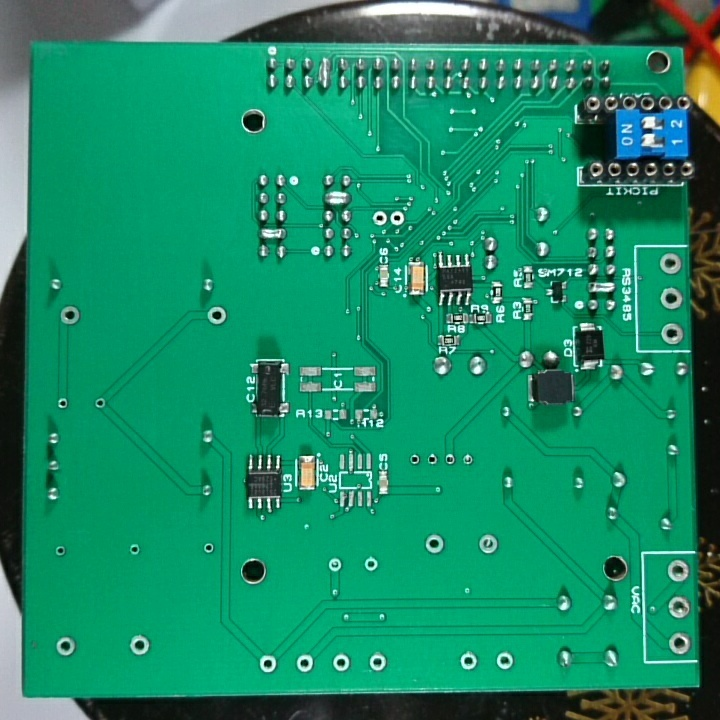F: (666, 592, 694, 621), (665, 629, 693, 657), (664, 558, 693, 584), (127, 631, 153, 659), (659, 321, 687, 347), (57, 303, 82, 330), (659, 251, 684, 278), (457, 651, 484, 675), (257, 651, 280, 678), (476, 531, 499, 558), (495, 648, 516, 677), (423, 532, 447, 557), (365, 650, 388, 676), (206, 303, 228, 327), (659, 287, 683, 309), (55, 633, 76, 657), (295, 652, 316, 675), (331, 652, 352, 673), (361, 555, 385, 572), (369, 209, 389, 229), (325, 555, 344, 575), (124, 542, 147, 558), (53, 544, 74, 560), (388, 209, 404, 228), (200, 540, 215, 558), (441, 451, 456, 468), (460, 451, 474, 469), (55, 396, 70, 412), (424, 452, 439, 468), (92, 395, 106, 412), (408, 452, 424, 466)
P: (316, 56, 334, 92), (584, 279, 618, 296), (321, 189, 353, 206), (257, 226, 291, 242)
